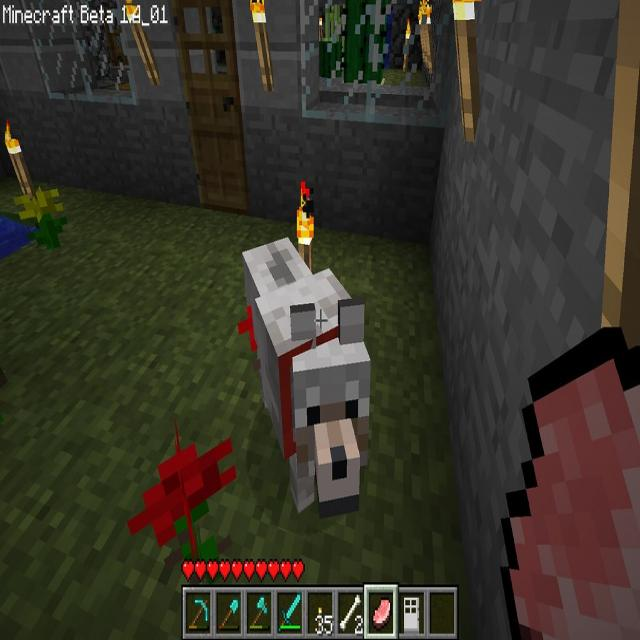Wolf: (241, 237, 372, 513)
